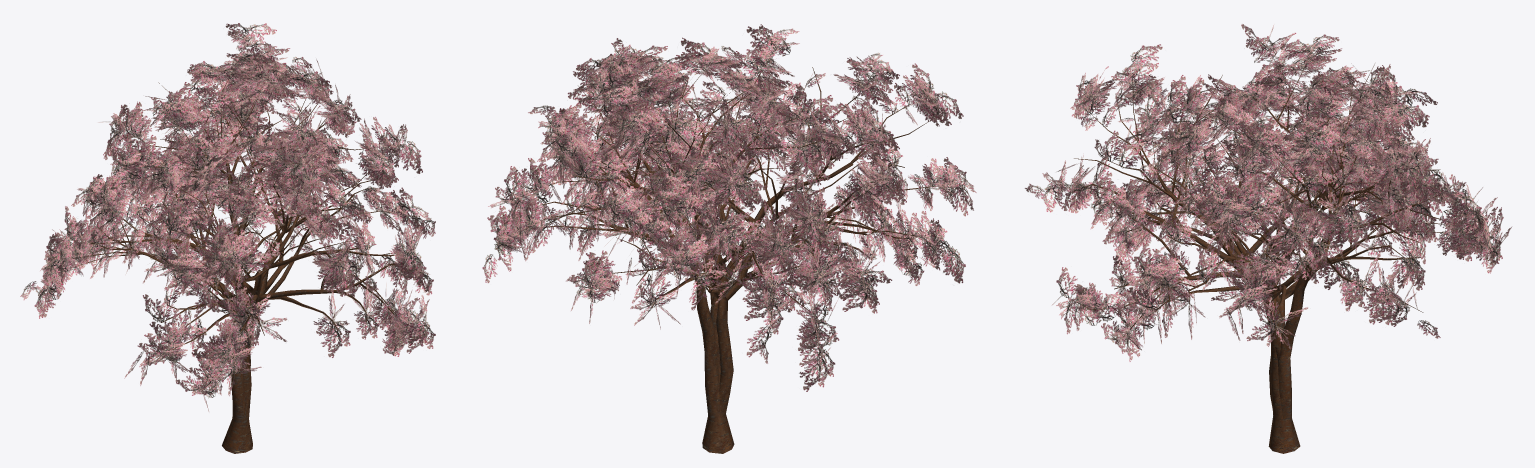
The model's file is Cherry3_LOD.gltf.
The picture shows the model from 3 angles, left to right: view 1: azimuth 30°, elevation 25°; view 2: azimuth 150°, elevation 25°; view 3: azimuth 270°, elevation 25°; orthographic projection. The views are drawn at different scales.
Visible parts, largest first — view 1: cherrry_3_lod_Tree_1Mat_0, cherrry_3_lod_Tree_0Mat_0; view 2: cherrry_3_lod_Tree_1Mat_0, cherrry_3_lod_Tree_0Mat_0; view 3: cherrry_3_lod_Tree_1Mat_0, cherrry_3_lod_Tree_0Mat_0.
Boxes of the visible parts, bbox=[...] form: cherrry_3_lod_Tree_1Mat_0: bbox=[20, 23, 435, 411]; cherrry_3_lod_Tree_0Mat_0: bbox=[39, 57, 422, 453]; cherrry_3_lod_Tree_1Mat_0: bbox=[482, 24, 976, 391]; cherrry_3_lod_Tree_0Mat_0: bbox=[500, 40, 959, 453]; cherrry_3_lod_Tree_1Mat_0: bbox=[1025, 24, 1511, 361]; cherrry_3_lod_Tree_0Mat_0: bbox=[1048, 50, 1493, 453].
Size of the model in its own units: 178 by 179 by 198.
Materials: 2 (2 with a texture image).
